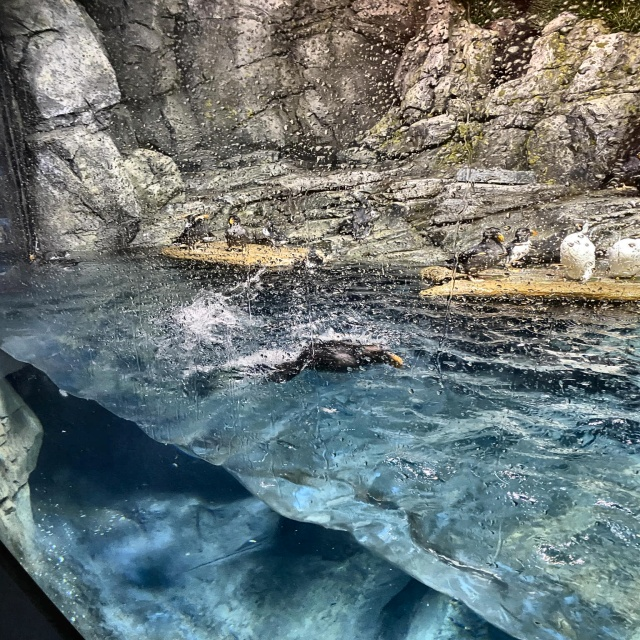puffin: (269, 340, 405, 382), (445, 228, 509, 283), (562, 222, 596, 282), (498, 227, 537, 268), (172, 212, 210, 248), (610, 239, 639, 281), (225, 216, 250, 252), (26, 249, 71, 263), (263, 223, 288, 247)
